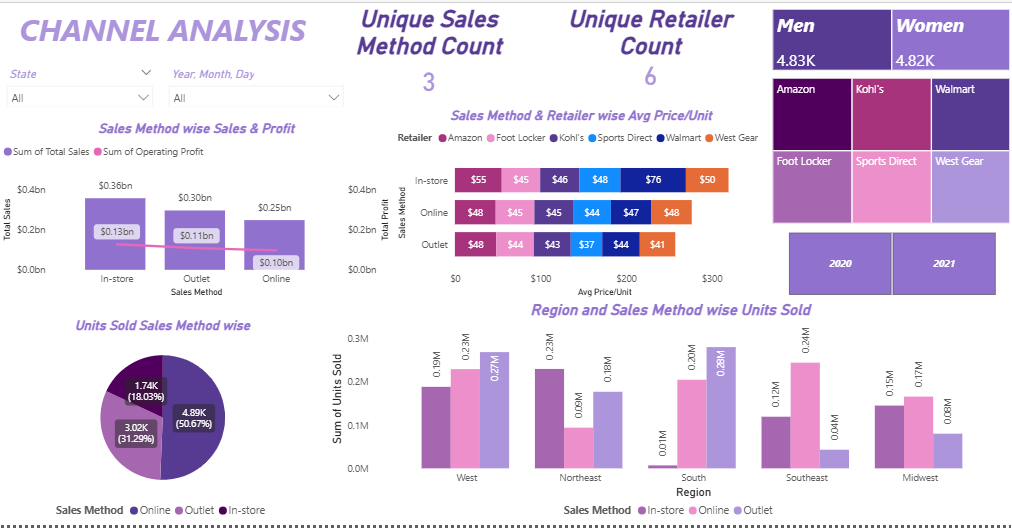

This screenshot's page, from the dashboard's own definition file:
{"tool":"powerbi","page":{"name":"Channel Analysis","canvas":[1280,720],"ordinal":3},"visuals":[{"type":"treemap","fields":{"Group":["Table 1 (Data Sales Adidas).Product Gender"],"Values":["CountNonNull(Table 1 (Data Sales Adidas).Product Gender)"]},"box":[969.5,64.3,309.9,86.9],"z":0},{"type":"treemap","fields":{"Values":["Count(Table 1 (Data Sales Adidas).Retailer)"],"Details":["Table 1 (Data Sales Adidas).Retailer"]},"box":[969.5,151.2,309.9,192.8],"z":1000},{"type":"slicer","fields":{"Values":["Table 1 (Data Sales Adidas).Invoice Date.Variation.Date Hierarchy.Year"]},"box":[969.5,343.9,309.9,92.6],"z":2000},{"type":"card","title":"Unique Sales Method Count","fields":{"Values":["Count(Table 1 (Data Sales Adidas).Sales Method)"]},"box":[412,64.3,258.9,120.9],"z":3000},{"type":"card","title":"Unique Retailer Count","fields":{"Values":["Count(Table 1 (Data Sales Adidas).Retailer)"]},"box":[670.9,64.3,298.6,105.8],"z":4000},{"type":"textbox","box":[0,64.3,412,73.7],"z":5000},{"type":"pieChart","title":"Units Sold Sales Method wise","fields":{"Y":["CountNonNull(Table 1 (Data Sales Adidas).Product)"],"Category":["Table 1 (Data Sales Adidas).Sales Method"]},"box":[0,457.3,412,262.7],"z":6000},{"type":"barChart","title":"Sales Method & Retailer wise Avg Price/Unit","fields":{"Category":["Table 1 (Data Sales Adidas).Sales Method"],"Y":["Avg(Table 1 (Data Sales Adidas).Price per Unit)"],"Series":["Table 1 (Data Sales Adidas).Retailer"]},"box":[497,192.8,472.4,243.8],"z":7000},{"type":"lineStackedColumnComboChart","title":"Sales Method wise Sales & Profit","fields":{"Y":["Sum(Table 1 (Data Sales Adidas).Total Sales)"],"Y2":["Sum(Table 1 (Data Sales Adidas).Operating Profit)"],"Category":["Table 1 (Data Sales Adidas).Sales Method"]},"box":[0,209.8,497,226.8],"z":8000},{"type":"clusteredColumnChart","title":"Region and Sales Method wise Units Sold ","fields":{"Y":["Sum(Table 1 (Data Sales Adidas).Units Sold)"],"Category":["Table 1 (Data Sales Adidas).Region"],"Series":["Table 1 (Data Sales Adidas).Sales Method"]},"box":[412,436.5,867.4,283.5],"z":9000},{"type":"slicer","fields":{"Values":["Table 1 (Data Sales Adidas).State"]},"box":[0,138,204.1,54.8],"z":10000},{"type":"slicer","fields":{"Values":["Table 1 (Data Sales Adidas).Invoice Date.Variation.Date Hierarchy.Year","Table 1 (Data Sales Adidas).Invoice Date.Variation.Date Hierarchy.Month","Table 1 (Data Sales Adidas).Invoice Date.Variation.Date Hierarchy.Day"]},"box":[204.1,138,240,54.8],"z":11000}]}

Visuals, with their boxes on the page's 1280x720 design canvas (x1, y1, x2, y2). These are canvas units, not pixel positions in the 1012x528 screenshot, which may show the page scaled, cropped or inside an application window:
treemap - Table 1 (Data Sales Adidas).Product Gender x CountNonNull(Table 1 (Data Sales Adidas).Product Gender): <box>970,64,1279,151</box>
treemap - Count(Table 1 (Data Sales Adidas).Retailer) x Table 1 (Data Sales Adidas).Retailer: <box>970,151,1279,344</box>
slicer - Table 1 (Data Sales Adidas).Invoice Date.Variation.Date Hierarchy.Year: <box>970,344,1279,436</box>
"Unique Sales Method Count" card: <box>412,64,671,185</box>
"Unique Retailer Count" card: <box>671,64,970,170</box>
textbox: <box>0,64,412,138</box>
"Units Sold Sales Method wise" pieChart: <box>0,457,412,720</box>
"Sales Method & Retailer wise Avg Price/Unit" barChart: <box>497,193,969,437</box>
"Sales Method wise Sales & Profit" lineStackedColumnComboChart: <box>0,210,497,437</box>
"Region and Sales Method wise Units Sold " clusteredColumnChart: <box>412,436,1279,720</box>
slicer - Table 1 (Data Sales Adidas).State: <box>0,138,204,193</box>
slicer - Table 1 (Data Sales Adidas).Invoice Date.Variation.Date Hierarchy.Year x Table 1 (Data Sales Adidas).Invoice Date.Variation.Date Hierarchy.Month: <box>204,138,444,193</box>
